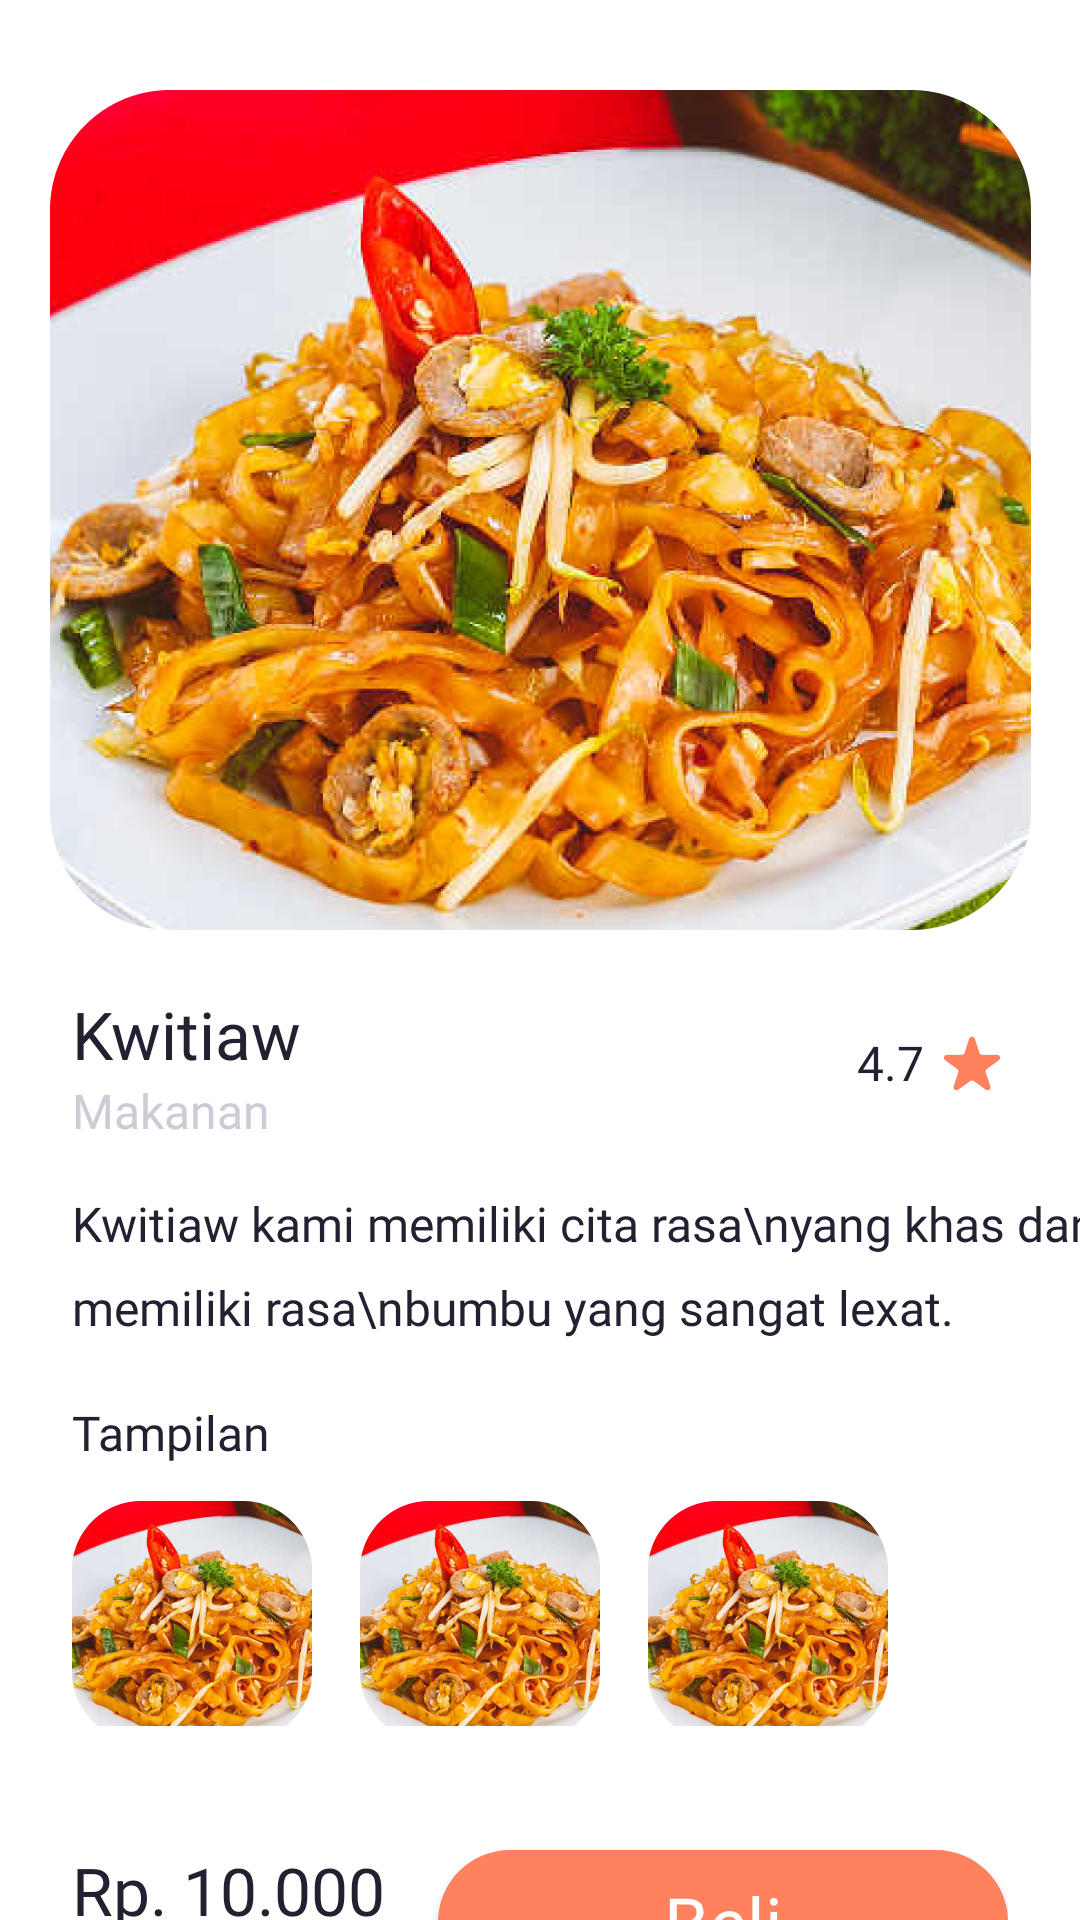

Icons on this 1080×1920 Android screen, each with the point to tap as [x,y]:
star: [972,1063]
